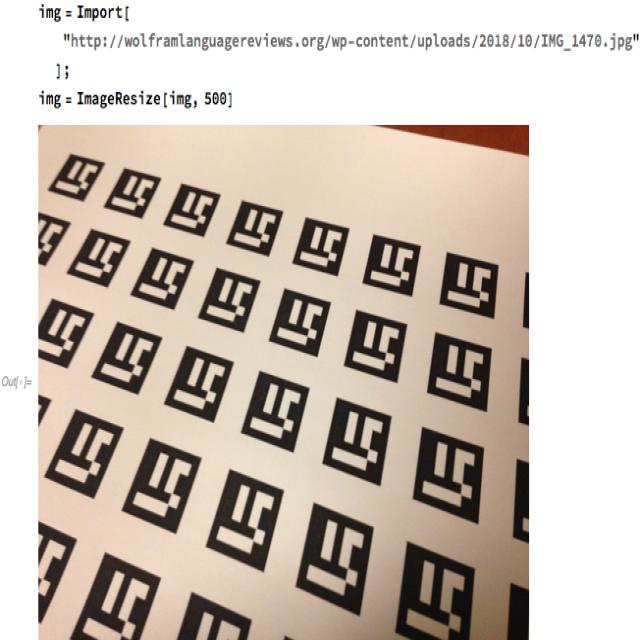aruco: (43, 378, 122, 510), (114, 436, 211, 528), (199, 468, 286, 569), (402, 429, 497, 521), (295, 501, 380, 603), (387, 553, 482, 640), (313, 405, 397, 490), (241, 362, 311, 460), (162, 334, 233, 426), (331, 309, 418, 384), (94, 309, 159, 409), (414, 340, 503, 412), (349, 231, 441, 298), (256, 280, 342, 351), (122, 237, 192, 318), (204, 251, 264, 344), (276, 216, 362, 279), (427, 253, 516, 311), (158, 166, 223, 235), (69, 218, 125, 296), (223, 195, 291, 258), (110, 146, 161, 227), (48, 145, 95, 204)
